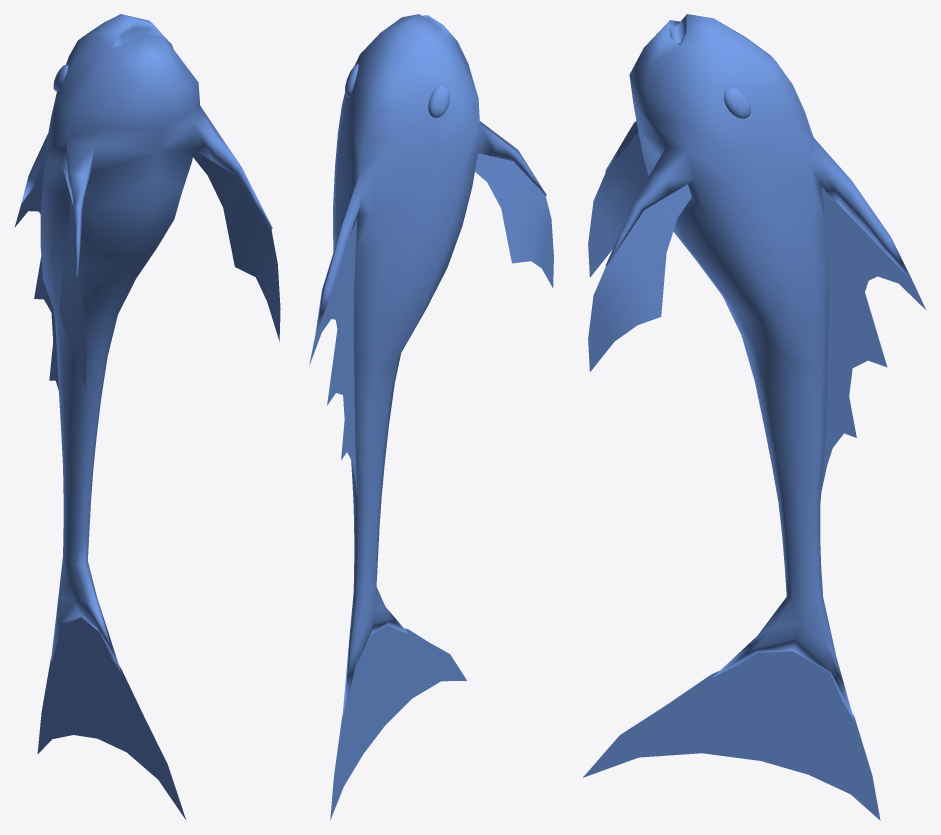
Rendered from FireFin.fbx.
3 renders of one model, left to right at view 1: azimuth 30°, elevation 25°; view 2: azimuth 150°, elevation 25°; view 3: azimuth 270°, elevation 25°, orthographic. The views are drawn at different scales.
Parts seen in each view (by area): view 1: Plane.001; view 2: Plane.001; view 3: Plane.001.
Boxes of the visible parts, x1,y1,x2,y2 form: Plane.001: (14,14,280,819); Plane.001: (309,14,553,819); Plane.001: (583,14,925,820).
Bounding box in the file's own units: 114 × 444 × 172.
